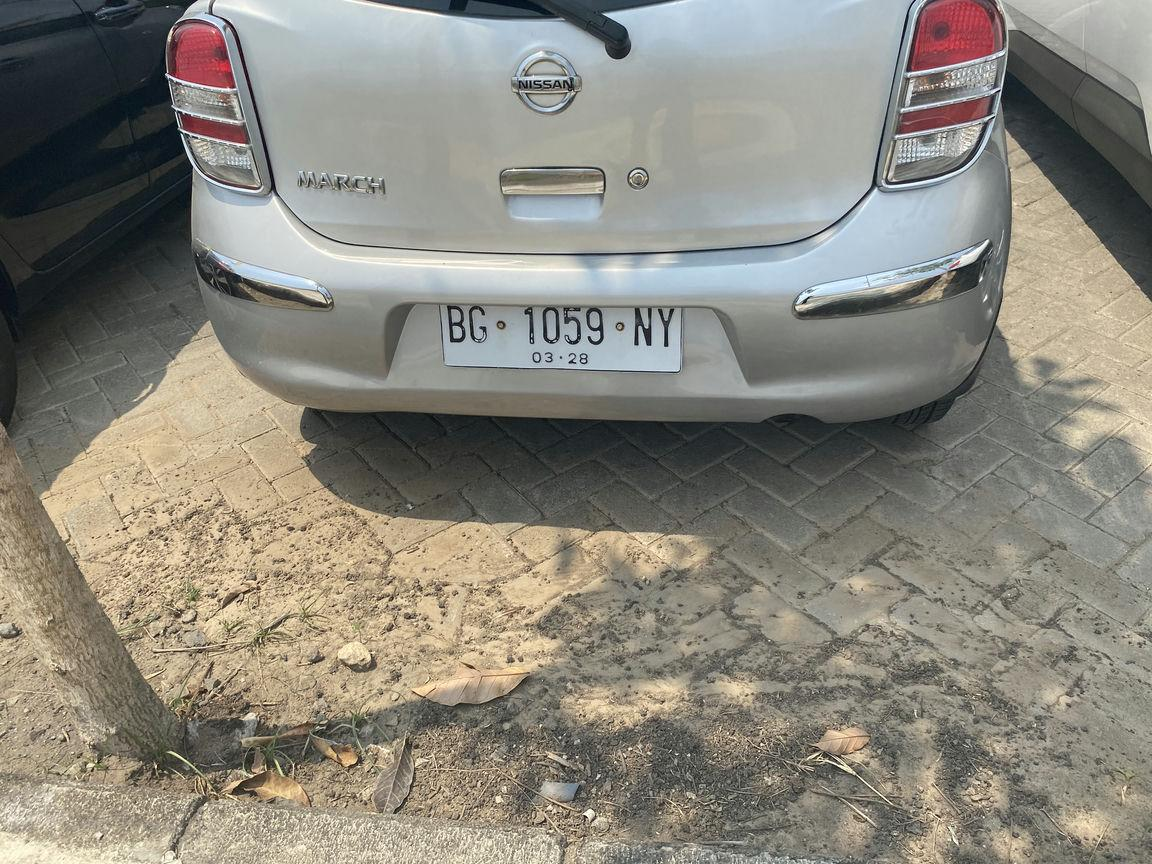plat: (439, 306, 682, 374)
